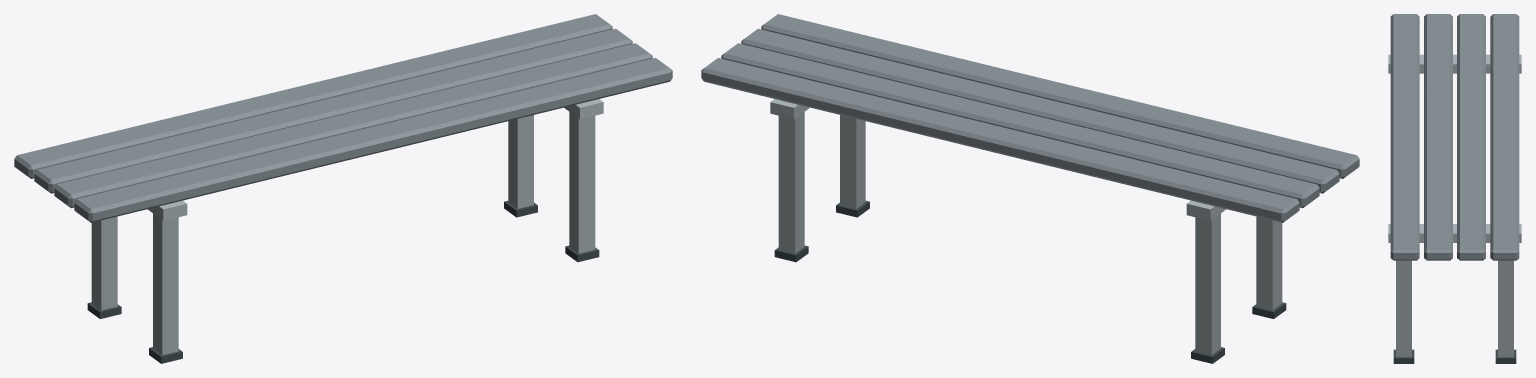
File: pool_bench.glb
The picture shows the model from 3 angles, left to right: view 1: azimuth 30°, elevation 25°; view 2: azimuth 150°, elevation 25°; view 3: azimuth 270°, elevation 25°; orthographic projection. The views are drawn at different scales.
Parts seen in each view (by area): view 1: pool_pool_bench; view 2: pool_pool_bench; view 3: pool_pool_bench.
Boxes of the visible parts, x1=… form: pool_pool_bench: x1=14, y1=14, x2=672, y2=363; pool_pool_bench: x1=701, y1=14, x2=1359, y2=363; pool_pool_bench: x1=1388, y1=14, x2=1521, y2=363.
Size of the model in its own units: 1.6 by 0.45 by 0.38.
Materials: 1 (1 with a texture image).
